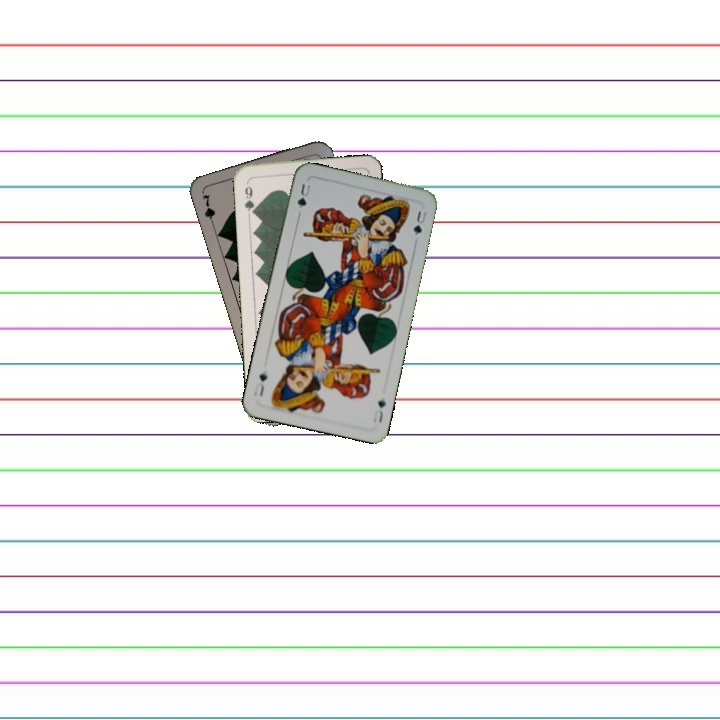G7: (198, 190, 218, 230)
G9: (240, 177, 258, 217)
GU: (293, 180, 313, 211), (369, 396, 388, 426)
